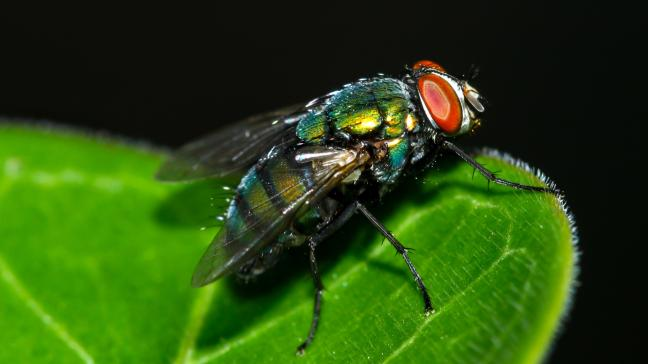house fly: (159, 49, 582, 352)
